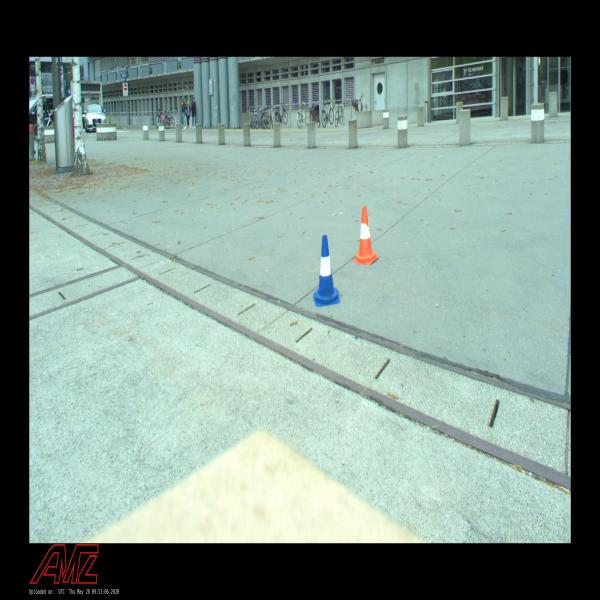blue_cone: (312, 235, 340, 305)
orange_cone: (353, 206, 378, 264)
